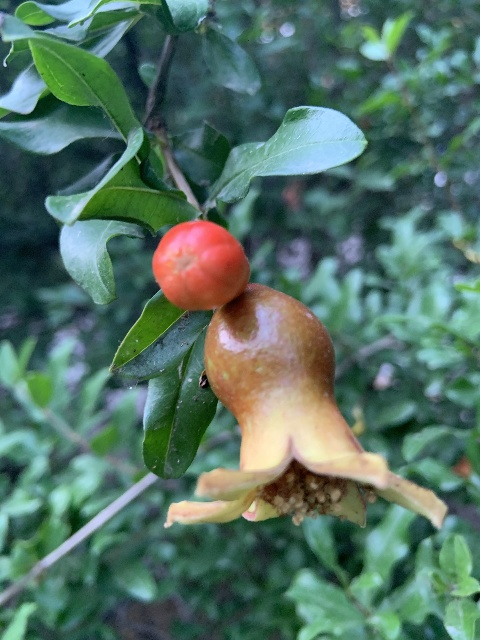bud: (152, 220, 249, 312)
early-fruit: (163, 283, 455, 533)
